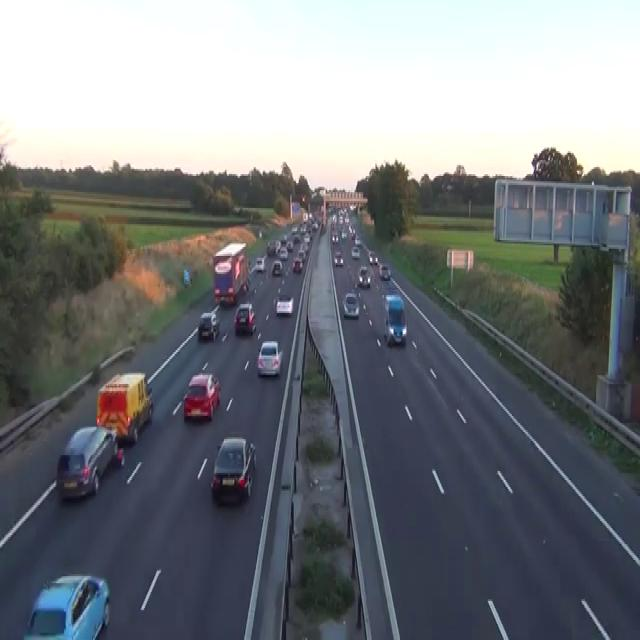Car: (23, 572, 110, 638), (56, 425, 124, 499), (210, 435, 256, 505), (183, 372, 220, 422), (257, 340, 283, 375), (233, 302, 256, 334), (198, 311, 220, 340), (274, 290, 294, 314), (343, 290, 359, 318), (383, 292, 401, 311), (358, 265, 370, 288), (378, 263, 391, 279), (333, 249, 343, 267), (271, 260, 282, 276), (255, 256, 265, 272), (241, 276, 250, 292), (368, 251, 378, 265), (292, 258, 302, 272), (278, 246, 288, 260), (351, 246, 360, 260), (266, 240, 275, 254), (297, 247, 306, 261), (211, 304, 220, 316), (331, 231, 338, 244), (286, 240, 293, 251), (349, 226, 355, 238), (247, 260, 252, 274), (354, 237, 361, 246), (299, 224, 306, 233), (368, 253, 374, 263), (275, 240, 280, 252), (291, 224, 297, 233), (281, 233, 287, 242), (293, 234, 299, 243), (300, 194, 306, 202), (341, 230, 347, 238), (349, 204, 356, 210), (258, 230, 262, 238)
Truck: (95, 372, 153, 444), (212, 242, 249, 304), (383, 293, 407, 345)
